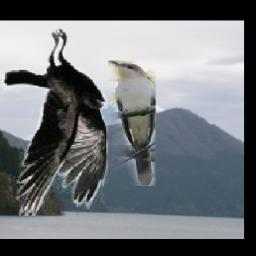Crow: (3, 25, 109, 217)
Cuckoo: (108, 61, 156, 187)
